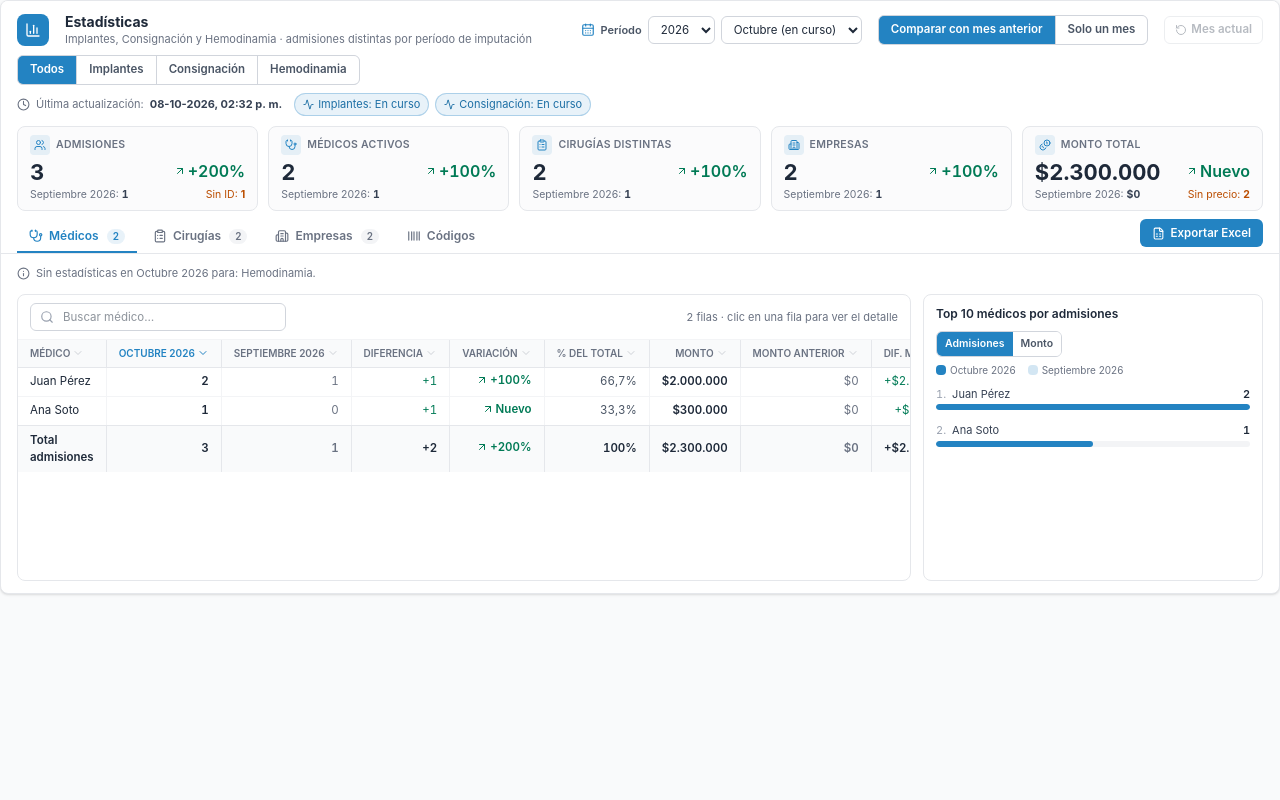
Estadísticas: panel de detalle redimensionable › el detalle se abre aparte (el Top 10 sigue visible), con columnas redimensionables, y cierra con el fondo
Step 1. Click the button "Juan Pérez" → (60, 382), box [30,373,91,390]
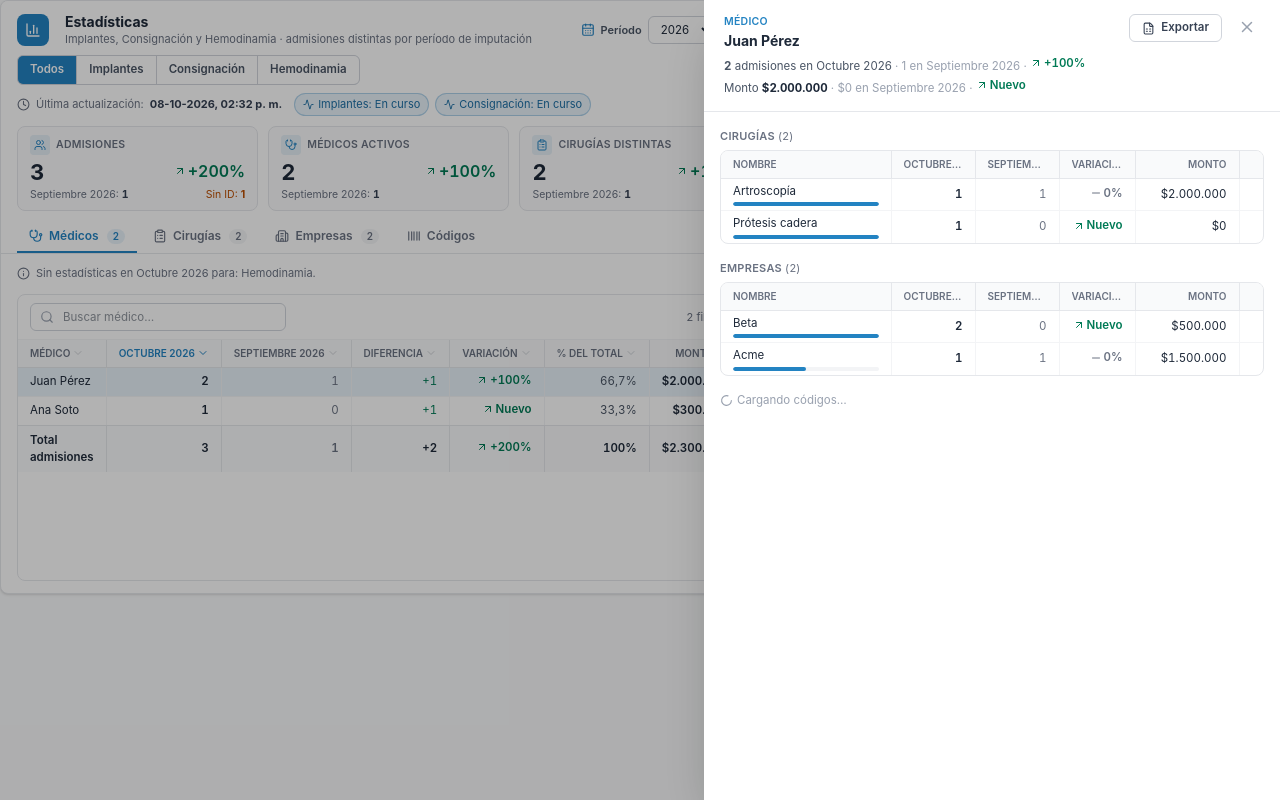
Check: the heading "Top 10 médicos por admisiones" is shown, box [936,305,1118,323]
Check: the element titled "Arrastra para redimensionar" is shown, box [882,151,890,178]
Step 2. Click the button named "Cerrar detalle" → (640, 400), box [0,0,1279,799]
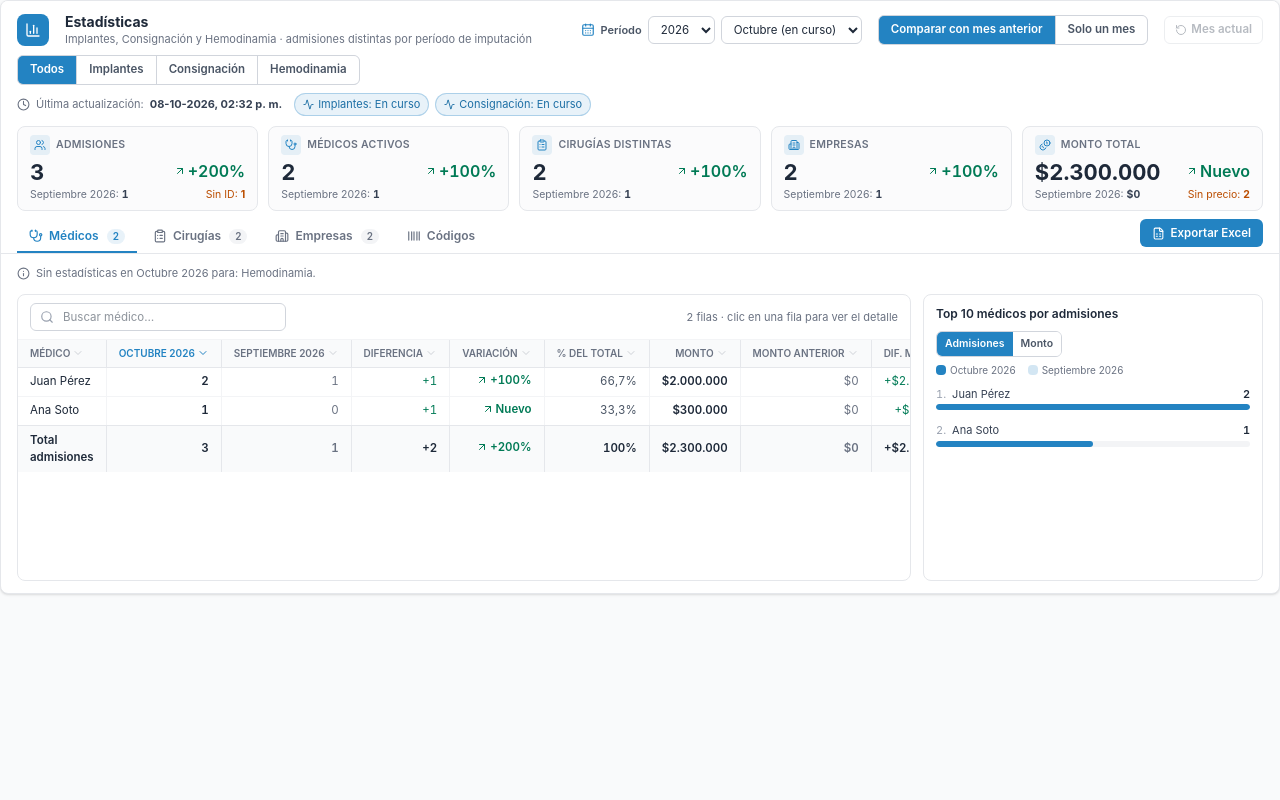
Check: the dialog is gone
